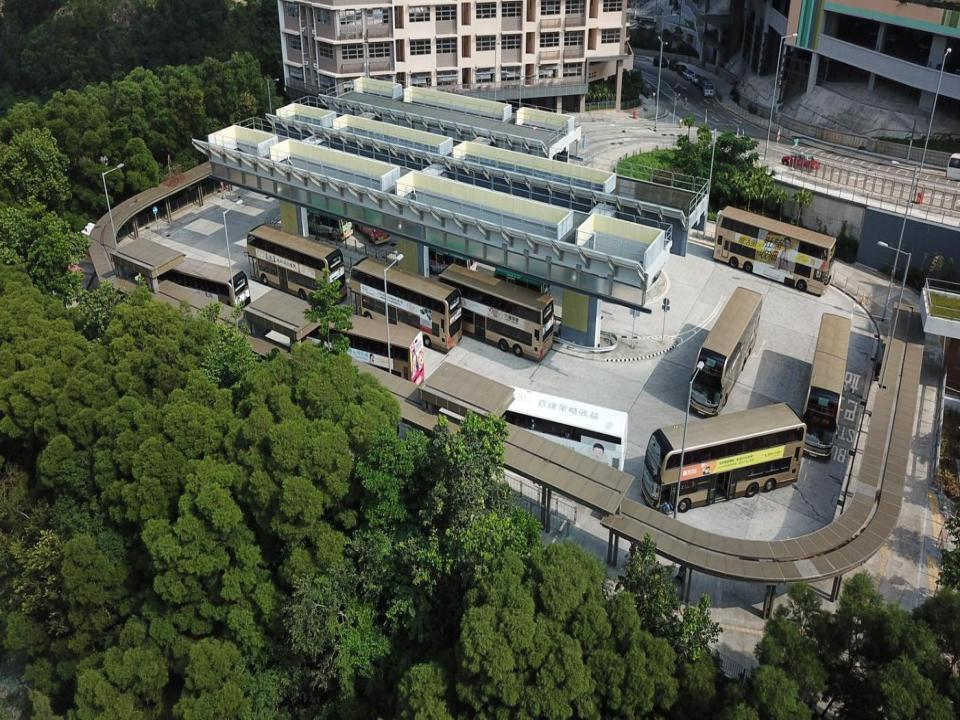bus: (438, 376, 629, 490), (642, 401, 807, 515), (435, 261, 554, 362), (712, 203, 838, 296), (348, 256, 463, 354), (311, 300, 425, 398), (687, 285, 763, 419), (243, 222, 348, 311), (138, 248, 252, 323), (796, 312, 852, 462), (300, 196, 353, 243), (353, 204, 390, 246)
car: (780, 152, 820, 172), (702, 79, 715, 98), (652, 54, 668, 68), (672, 63, 688, 76), (696, 75, 710, 89), (667, 56, 679, 70), (681, 68, 695, 80), (689, 72, 702, 84)
